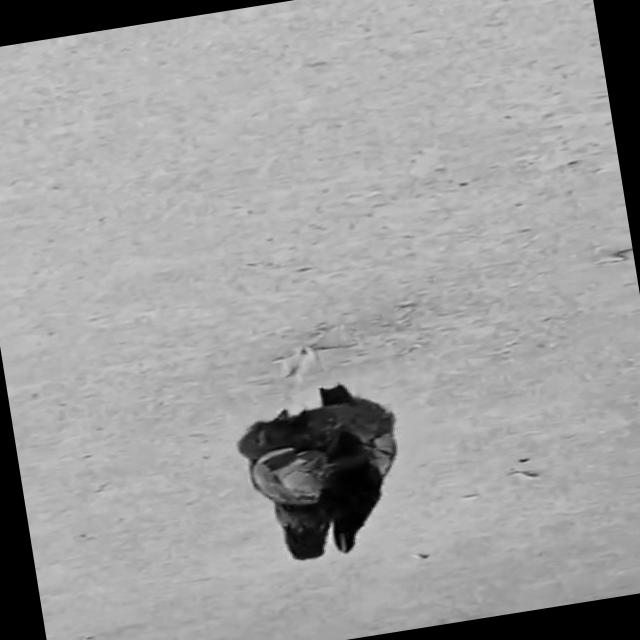walking: (193, 328, 433, 590)
